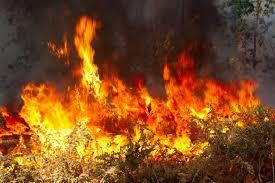fire: (6, 17, 235, 170)
